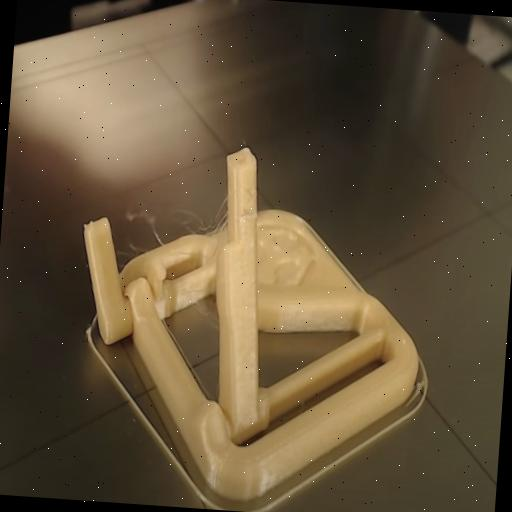stringing: (126, 183, 235, 273)
